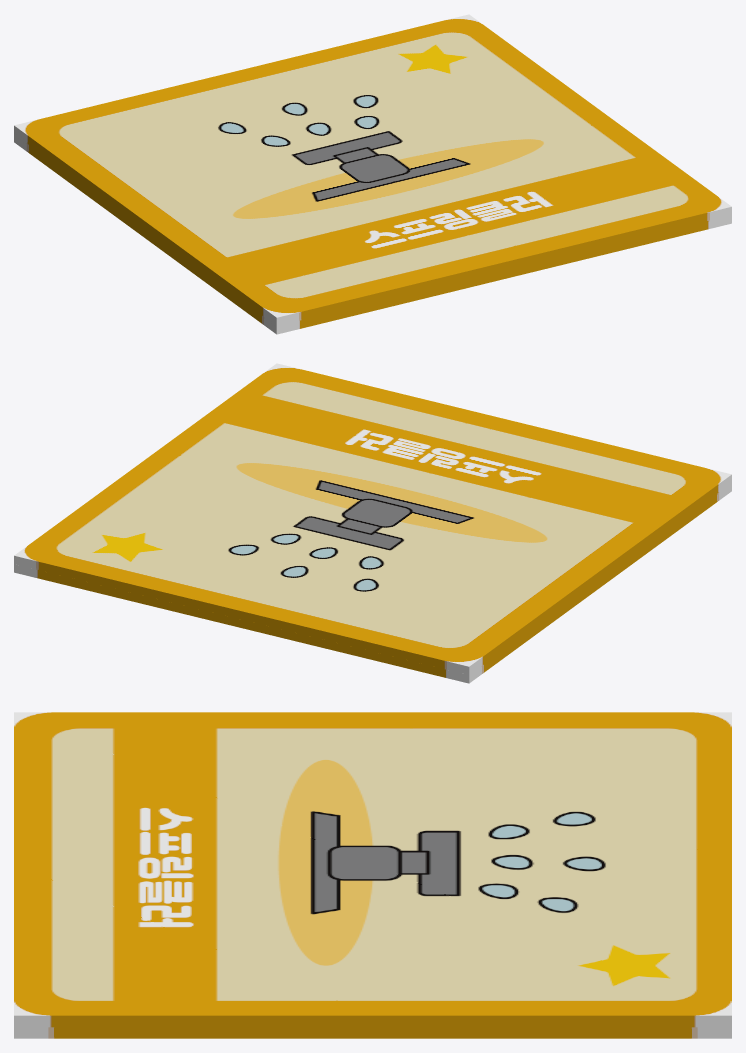
Rendered from SprinklerCard.fbx.
3 views of the same model, one above another, from view 1: azimuth 30°, elevation 25°; view 2: azimuth 150°, elevation 25°; view 3: azimuth 270°, elevation 25° (orthographic). The views are drawn at different scales.
Visible parts, largest first — view 1: Front, Back; view 2: Front, Back; view 3: Front, Back.
Part boxes in pixels (x1,y1,x2,y2): Front: (14, 14, 731, 325); Back: (14, 134, 731, 334); Front: (14, 363, 731, 674); Back: (14, 483, 731, 683); Front: (14, 712, 731, 1027); Back: (14, 1027, 731, 1038).
Size of the model in its own units: 4.06 by 0.1436 by 4.06.
